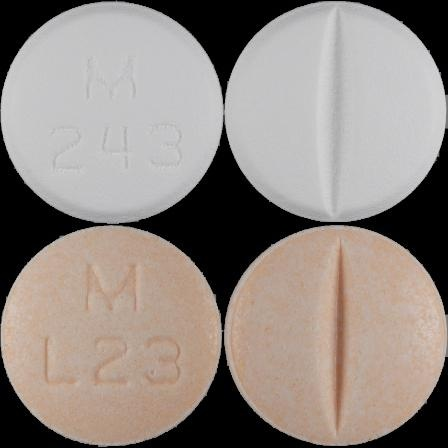51079-979: (0, 0, 224, 224)
